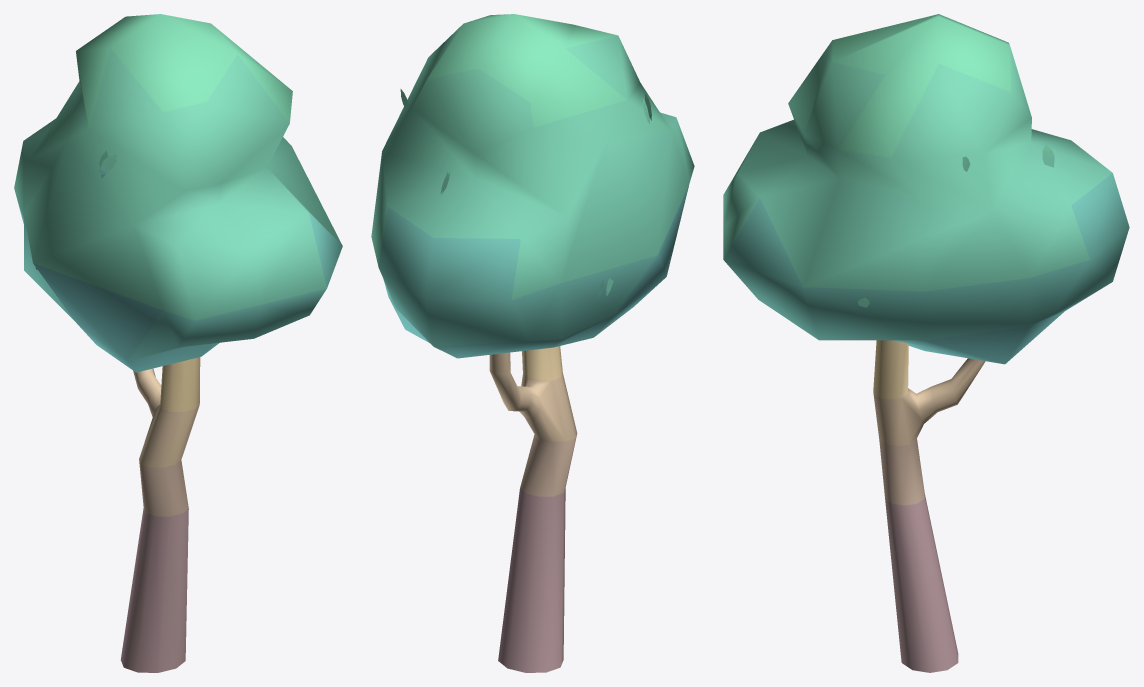
File: tree4.glb
The picture shows the model from 3 angles, left to right: view 1: azimuth 30°, elevation 25°; view 2: azimuth 150°, elevation 25°; view 3: azimuth 270°, elevation 25°; orthographic projection.
Parts seen in each view (by area): view 1: Tree4.001; view 2: Tree4.001; view 3: Tree4.001.
Boxes of the visible parts, bbox=[...] form: Tree4.001: bbox=[14, 14, 342, 672]; Tree4.001: bbox=[371, 14, 694, 672]; Tree4.001: bbox=[723, 14, 1129, 672].
Size of the model in its own units: 2.09 by 4.93 by 2.81.
